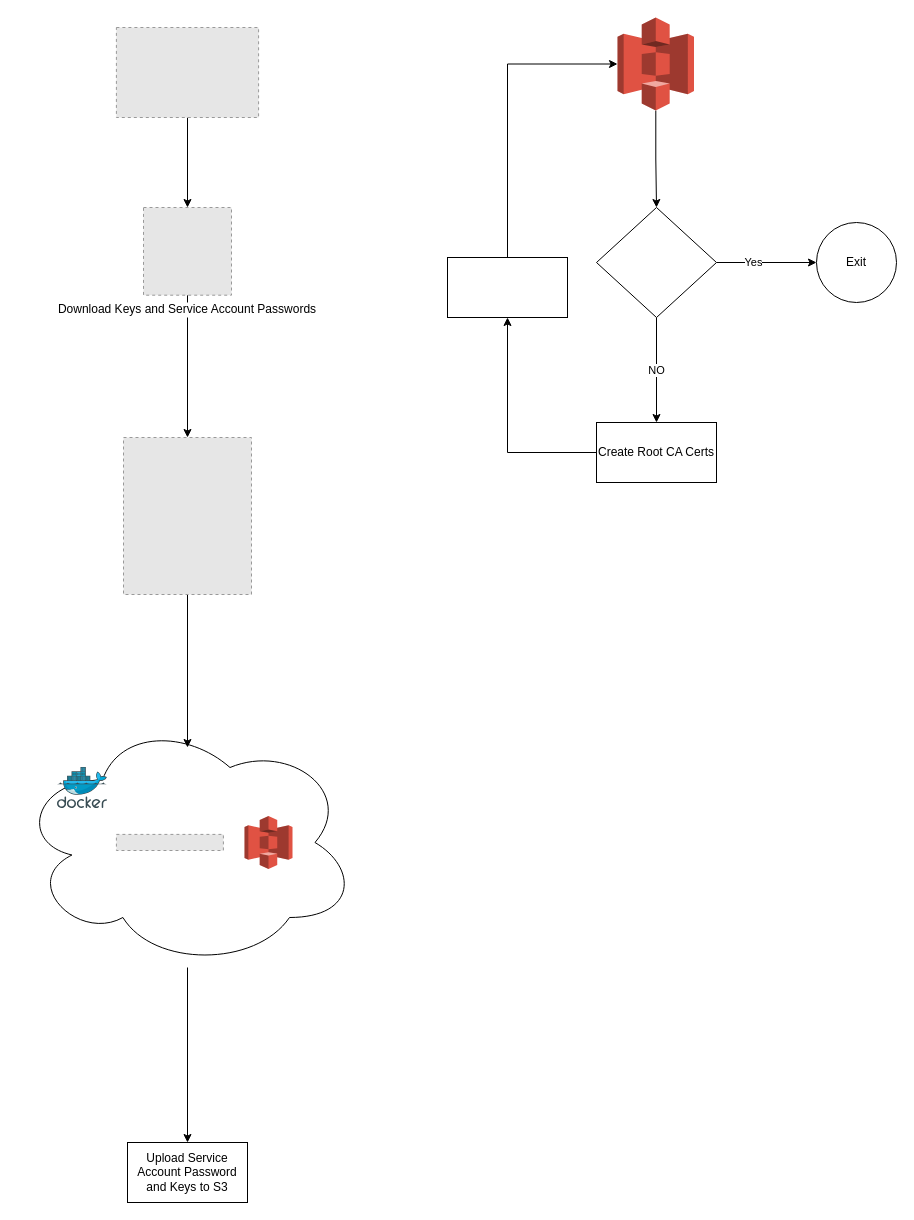
This 914x1220 diagram has some shape labels left out. Grey dashed boxes stand in for pictures. Here are the shapes that lost their labels. From the top down, the centre of each, then its label:
At point 656,262: "ROOT CA Certs are Present".
At point 507,287: "Upload The Certs back to S3".
